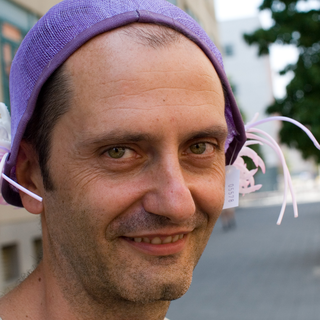eye: (93, 140, 144, 164), (181, 134, 220, 161)
